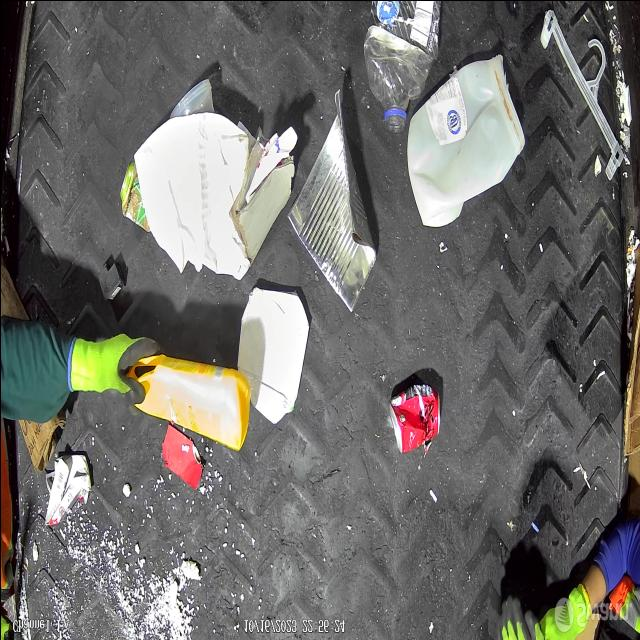can: (388, 383, 440, 454)
milk_jug: (405, 52, 524, 226)
non_white_jug: (128, 352, 250, 448)
plastic_bottle: (363, 0, 440, 132)
